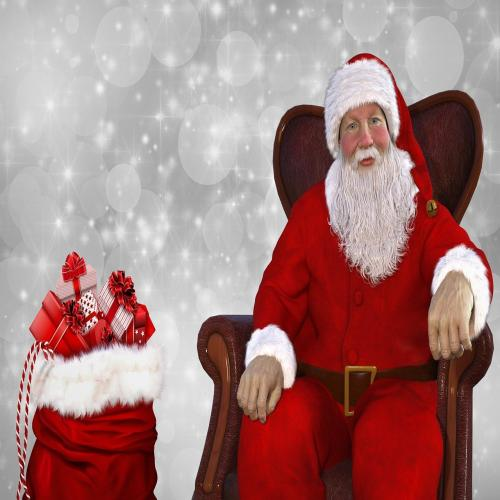Santa: (235, 53, 494, 498)
